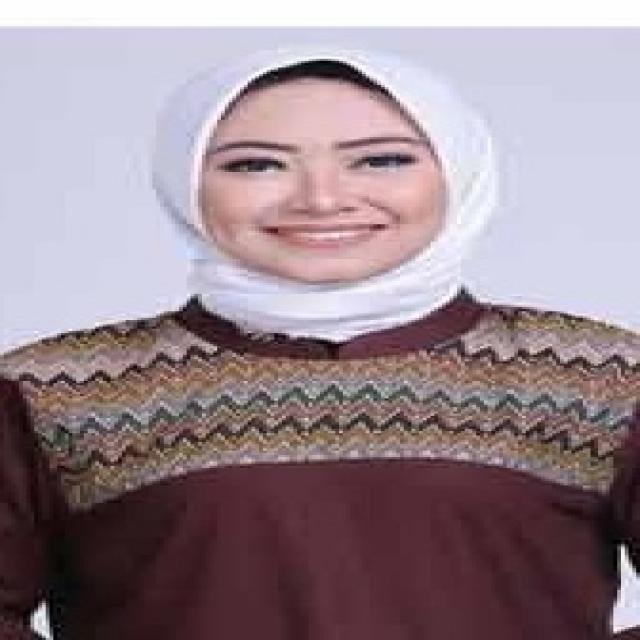head: (153, 48, 514, 292)
